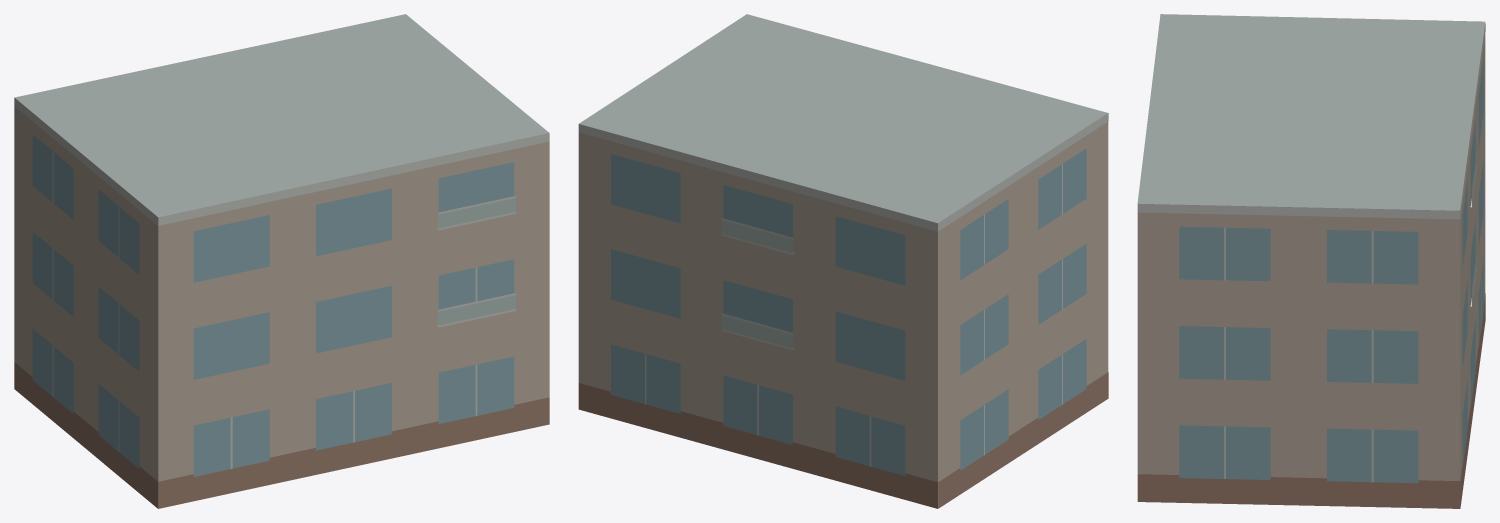
Rendered from survey-upis-33020115.glb.
3 views of the same model, side by side, from view 1: azimuth 30°, elevation 25°; view 2: azimuth 150°, elevation 25°; view 3: azimuth 270°, elevation 25° (orthographic). The views are drawn at different scales.
Parts seen in each view (by area): view 1: survey-upis-33020115.tmp; view 2: survey-upis-33020115.tmp; view 3: survey-upis-33020115.tmp.
Boxes of the visible parts, x1,y1,x2,y2 form: survey-upis-33020115.tmp: (14, 14, 549, 508); survey-upis-33020115.tmp: (578, 14, 1108, 508); survey-upis-33020115.tmp: (1137, 14, 1485, 508).
Size of the model in its own units: 11.83 by 8.35 by 8.85.
